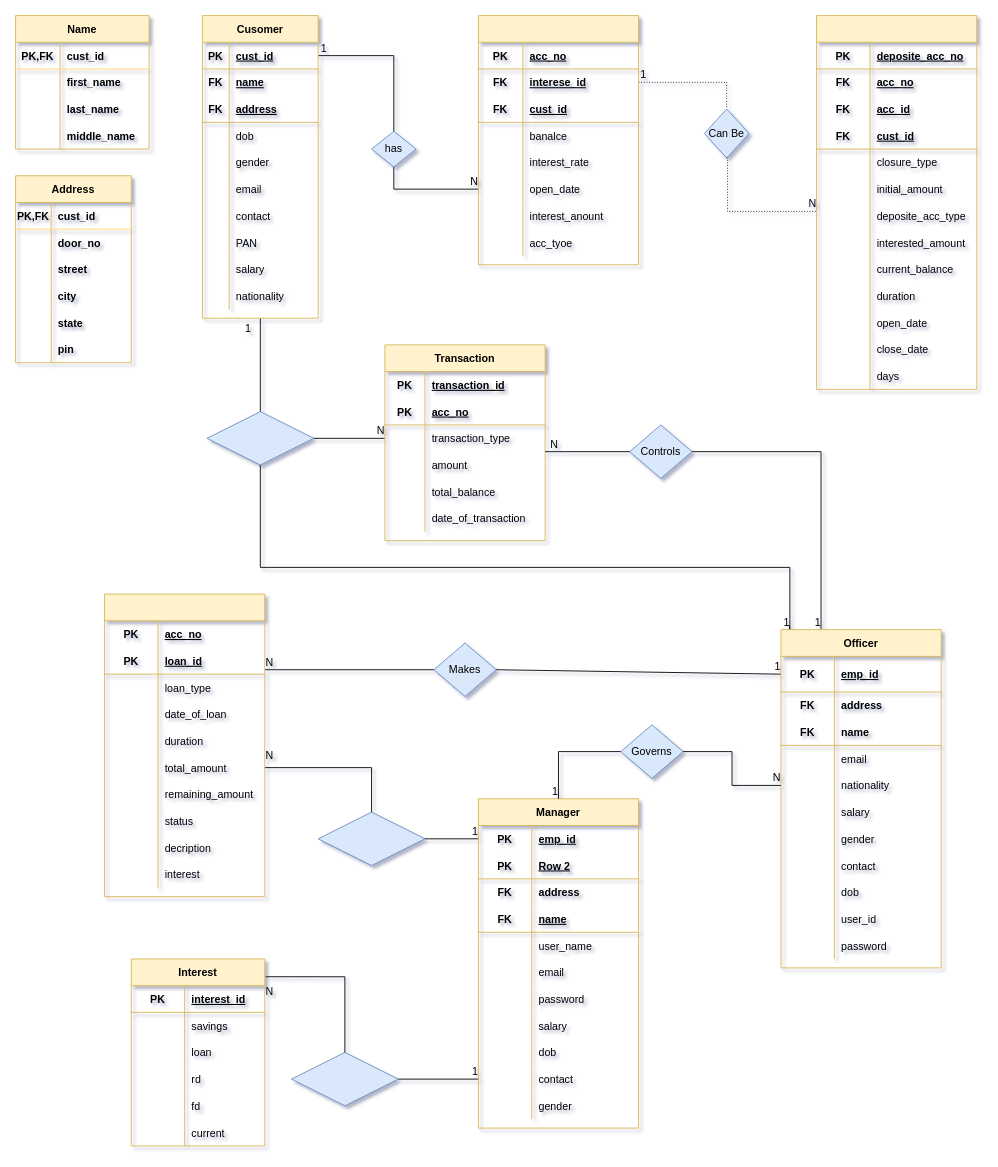
This 998x1167 diagram has some shape labels left out. Here are the shapes that lost their labels. From the top down, the box of each, then its label:
(477, 15, 639, 265): Account
(816, 15, 977, 389): Deposit Account
(206, 411, 314, 465): Requests
(104, 593, 265, 897): Loan Account
(317, 811, 425, 866): Approves
(291, 1052, 398, 1106): Updates
